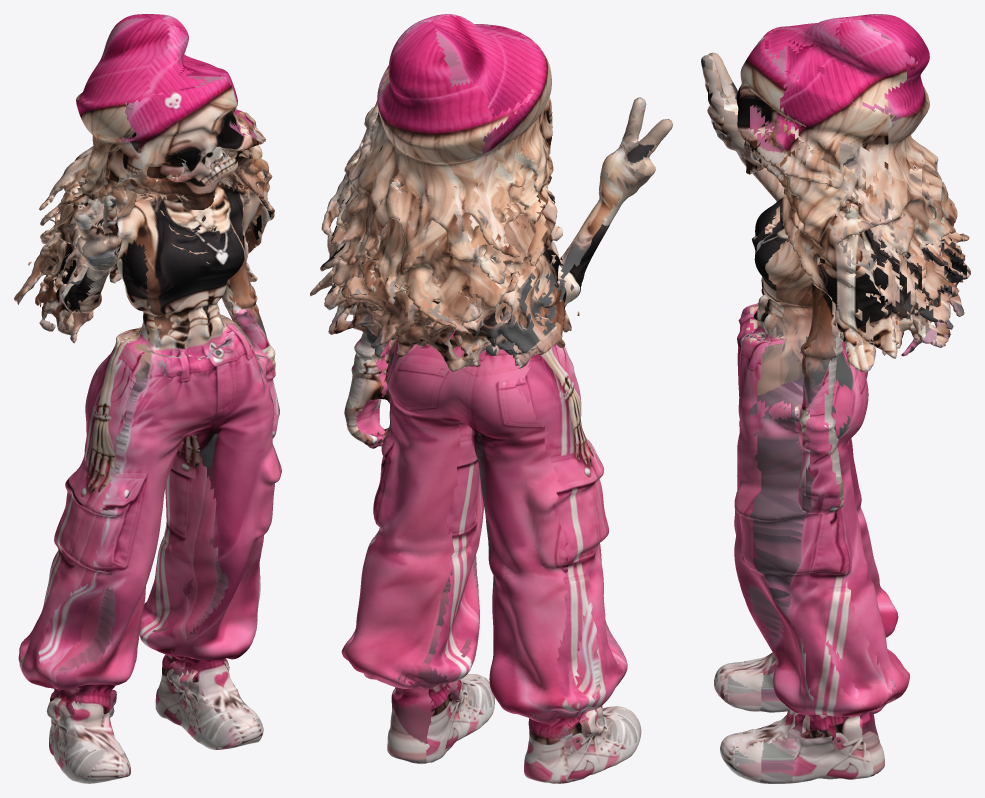
File: atica.glb
The picture shows the model from 3 angles, left to right: view 1: azimuth 30°, elevation 25°; view 2: azimuth 150°, elevation 25°; view 3: azimuth 270°, elevation 25°; orthographic projection. The views are drawn at different scales.
Visible parts, largest first — view 1: ATICA | PANTALÓN CARGO INDEPENDIENTE, ATICA | MELENA Y VOLUMEN DE PELO, ATICA | PRENDA SUPERIOR INDEPENDIENTE, ATICA | GORRO FÚCSIA INDEPENDIENTE, ATICA | CRÁNEO ORIGINAL RETAINED FOR FITTING, ATICA | ZAPATILLAS INDEPENDIENTES, ATICA | MANOS Y BRAZOS; view 2: ATICA | PANTALÓN CARGO INDEPENDIENTE, ATICA | MELENA Y VOLUMEN DE PELO, ATICA | GORRO FÚCSIA INDEPENDIENTE, ATICA | CRÁNEO ORIGINAL RETAINED FOR FITTING, ATICA | PRENDA SUPERIOR INDEPENDIENTE, ATICA | ZAPATILLAS INDEPENDIENTES, ATICA | MANOS Y BRAZOS; view 3: ATICA | PANTALÓN CARGO INDEPENDIENTE, ATICA | MELENA Y VOLUMEN DE PELO, ATICA | GORRO FÚCSIA INDEPENDIENTE, ATICA | ZAPATILLAS INDEPENDIENTES, ATICA | PRENDA SUPERIOR INDEPENDIENTE, ATICA | CRÁNEO ORIGINAL RETAINED FOR FITTING, ATICA | MANOS Y BRAZOS.
Part boxes in pixels (left/top/right/bottom): ATICA | PANTALÓN CARGO INDEPENDIENTE: left=18, top=344, right=281, bottom=701; ATICA | MELENA Y VOLUMEN DE PELO: left=14, top=84, right=275, bottom=490; ATICA | PRENDA SUPERIOR INDEPENDIENTE: left=45, top=215, right=263, bottom=402; ATICA | GORRO FÚCSIA INDEPENDIENTE: left=69, top=14, right=267, bottom=236; ATICA | CRÁNEO ORIGINAL RETAINED FOR FITTING: left=43, top=119, right=273, bottom=287; ATICA | ZAPATILLAS INDEPENDIENTES: left=46, top=654, right=263, bottom=783; ATICA | MANOS Y BRAZOS: left=22, top=219, right=270, bottom=350; ATICA | PANTALÓN CARGO INDEPENDIENTE: left=341, top=334, right=627, bottom=722; ATICA | MELENA Y VOLUMEN DE PELO: left=310, top=29, right=672, bottom=463; ATICA | GORRO FÚCSIA INDEPENDIENTE: left=365, top=14, right=553, bottom=225; ATICA | CRÁNEO ORIGINAL RETAINED FOR FITTING: left=322, top=97, right=670, bottom=285; ATICA | PRENDA SUPERIOR INDEPENDIENTE: left=322, top=228, right=599, bottom=385; ATICA | ZAPATILLAS INDEPENDIENTES: left=387, top=674, right=641, bottom=783; ATICA | MANOS Y BRAZOS: left=314, top=244, right=589, bottom=353; ATICA | PANTALÓN CARGO INDEPENDIENTE: left=734, top=364, right=909, bottom=716; ATICA | MELENA Y VOLUMEN DE PELO: left=702, top=36, right=961, bottom=513; ATICA | GORRO FÚCSIA INDEPENDIENTE: left=705, top=14, right=934, bottom=217; ATICA | ZAPATILLAS INDEPENDIENTES: left=714, top=652, right=884, bottom=783; ATICA | PRENDA SUPERIOR INDEPENDIENTE: left=737, top=201, right=970, bottom=400; ATICA | CRÁNEO ORIGINAL RETAINED FOR FITTING: left=701, top=53, right=957, bottom=291; ATICA | MANOS Y BRAZOS: left=801, top=282, right=944, bottom=413.
Size of the model in its own units: 0.6907 by 1.8 by 0.593.
21 materials, 21 textured.
